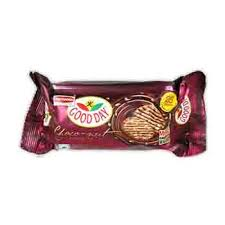gooday-small-choco: (19, 68, 206, 162)
